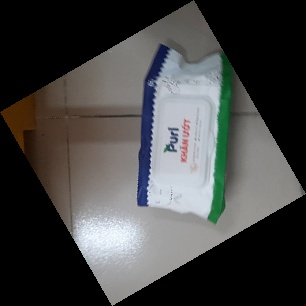Puri Trang: (136, 42, 243, 226)
